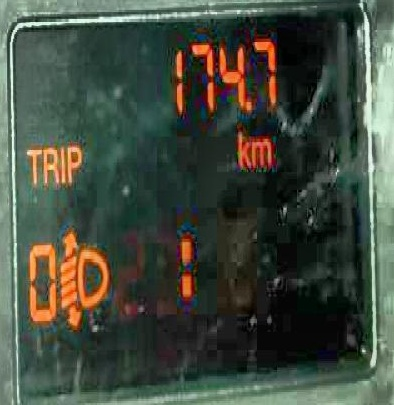-: (244, 94, 250, 112)
0: (26, 236, 56, 325)
1: (171, 41, 184, 116)
4: (217, 38, 244, 112)
7: (252, 34, 279, 105), (189, 38, 214, 114)
X: (174, 227, 195, 312), (40, 141, 58, 190), (23, 141, 40, 190), (250, 134, 273, 167), (67, 138, 83, 183), (235, 127, 250, 167), (59, 139, 65, 190)
